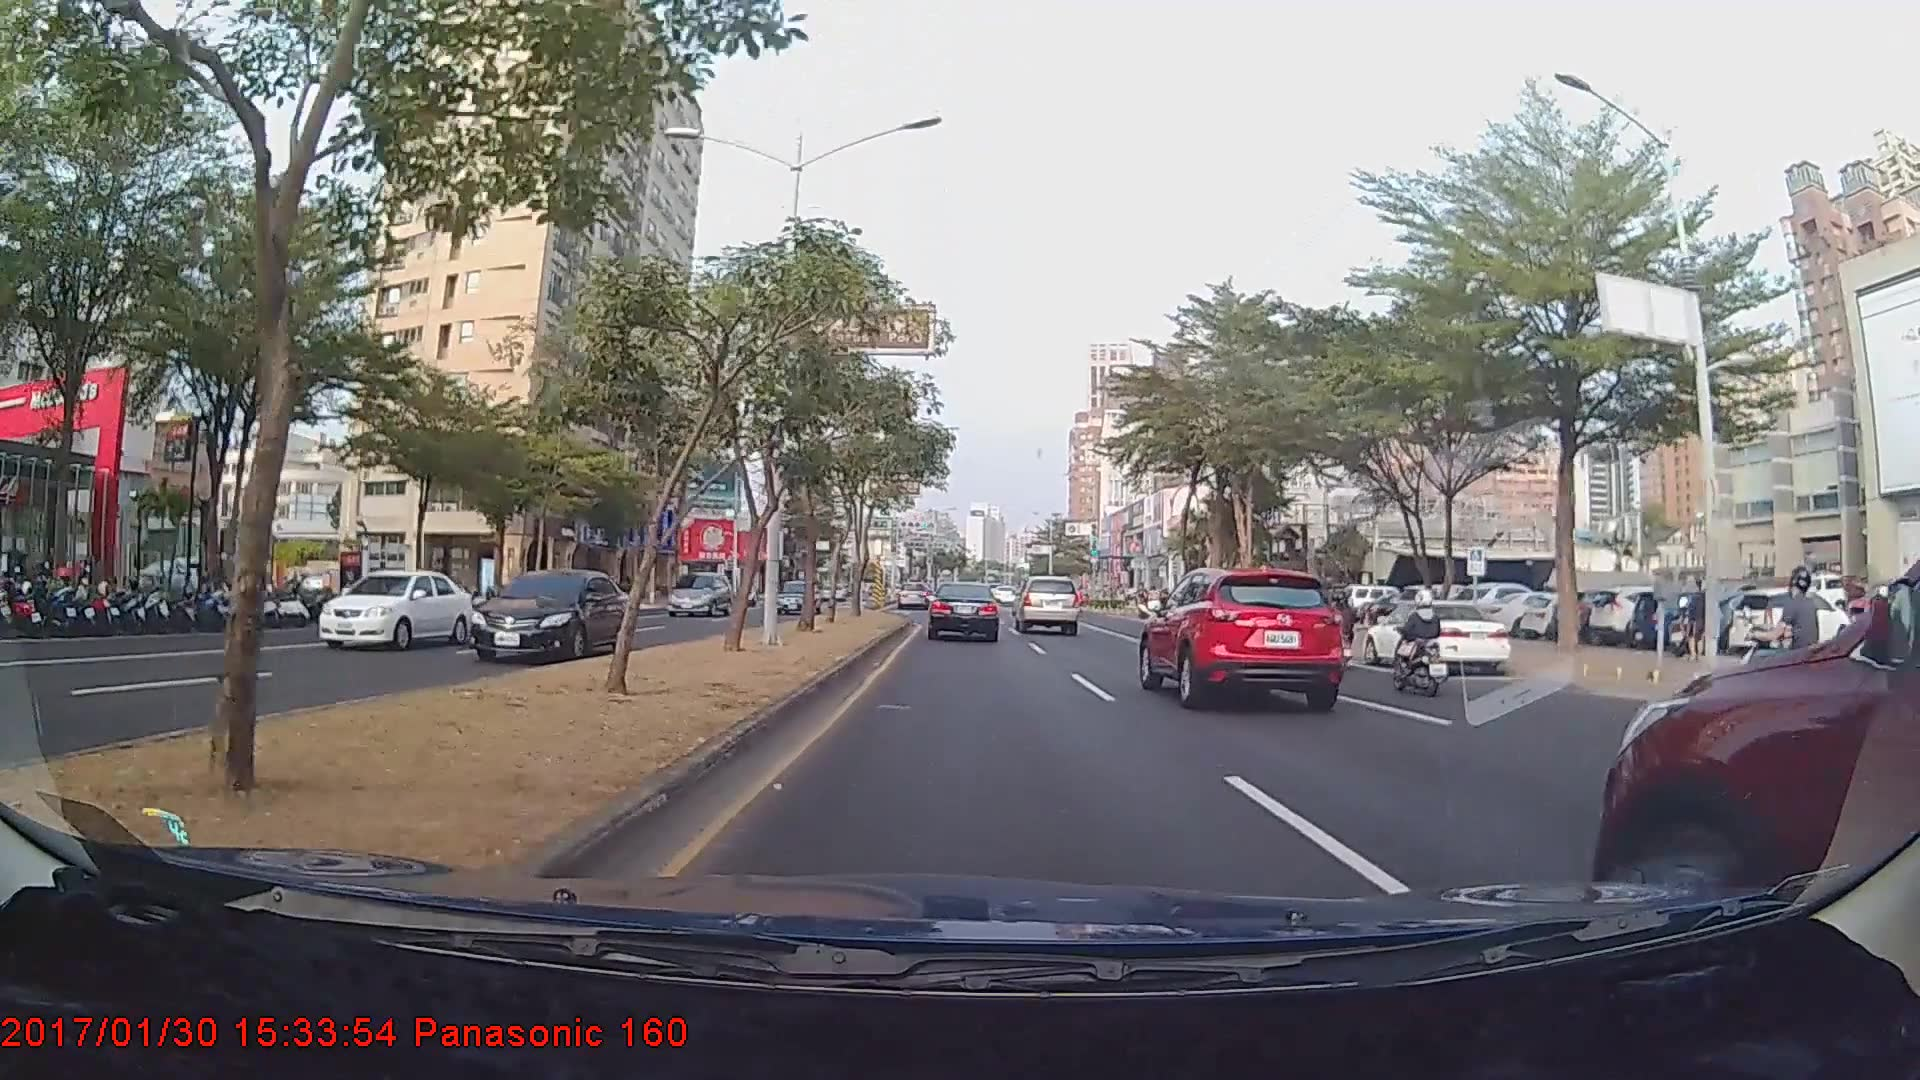rider: (1710, 555, 1836, 757), (1381, 586, 1454, 699)
vehicle: (1590, 478, 1920, 1031), (1140, 560, 1348, 710), (463, 566, 632, 661), (315, 569, 472, 648), (1360, 597, 1512, 675), (1726, 587, 1860, 661), (927, 581, 1000, 642), (1012, 575, 1081, 635), (663, 569, 733, 615), (777, 580, 817, 616), (896, 581, 930, 610)
